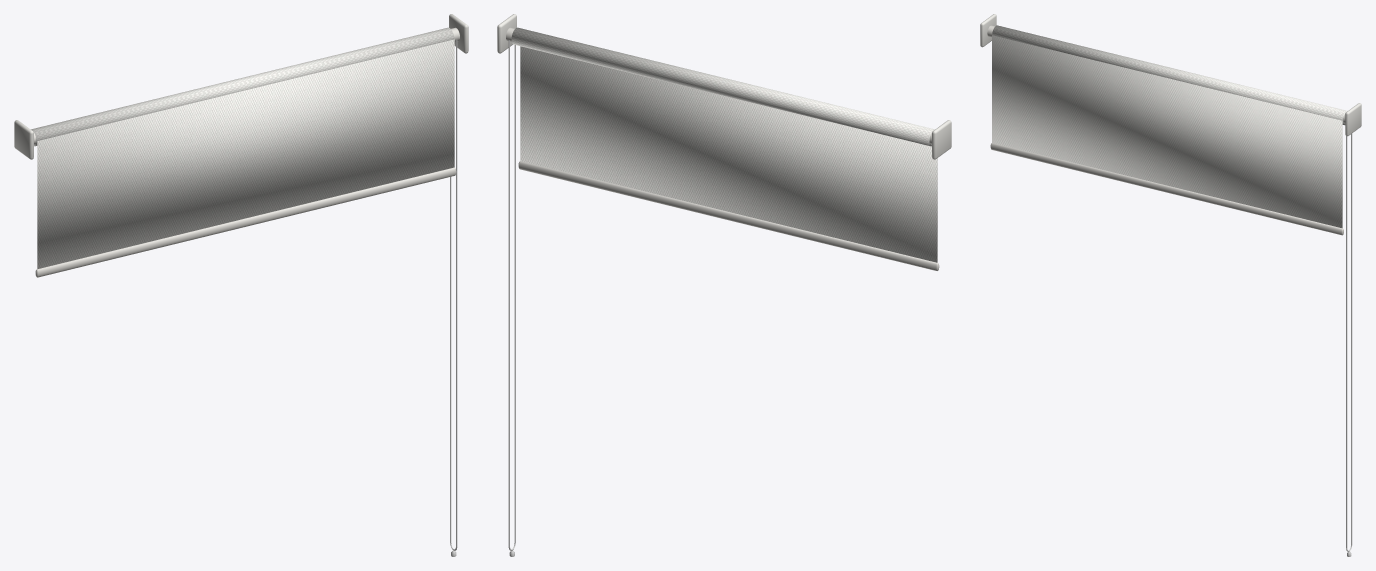
The model's file is estor_enrollable_140_c25.glb.
3 views of the same model, side by side, from view 1: azimuth 30°, elevation 25°; view 2: azimuth 150°, elevation 25°; view 3: azimuth 330°, elevation 25° (orthographic). The views are drawn at different scales.
Parts seen in each view (by area): view 1: estor_enrollable_140_c25; view 2: estor_enrollable_140_c25; view 3: estor_enrollable_140_c25.
Part boxes in pixels (<box>): estor_enrollable_140_c25: <box>14,14,468,556</box>; estor_enrollable_140_c25: <box>497,14,951,556</box>; estor_enrollable_140_c25: <box>980,14,1361,556</box>.
Size of the model in its own units: 1.2 by 1.4 by 0.08.
Materials: 4 (1 with a texture image).
